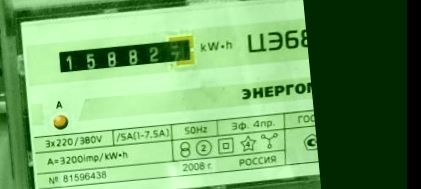1: (63, 53, 74, 70)
2: (147, 44, 158, 62)
5: (84, 51, 96, 68)
7: (169, 49, 179, 61)
8: (126, 47, 138, 65), (105, 50, 117, 67)
screen: (50, 29, 201, 82)
